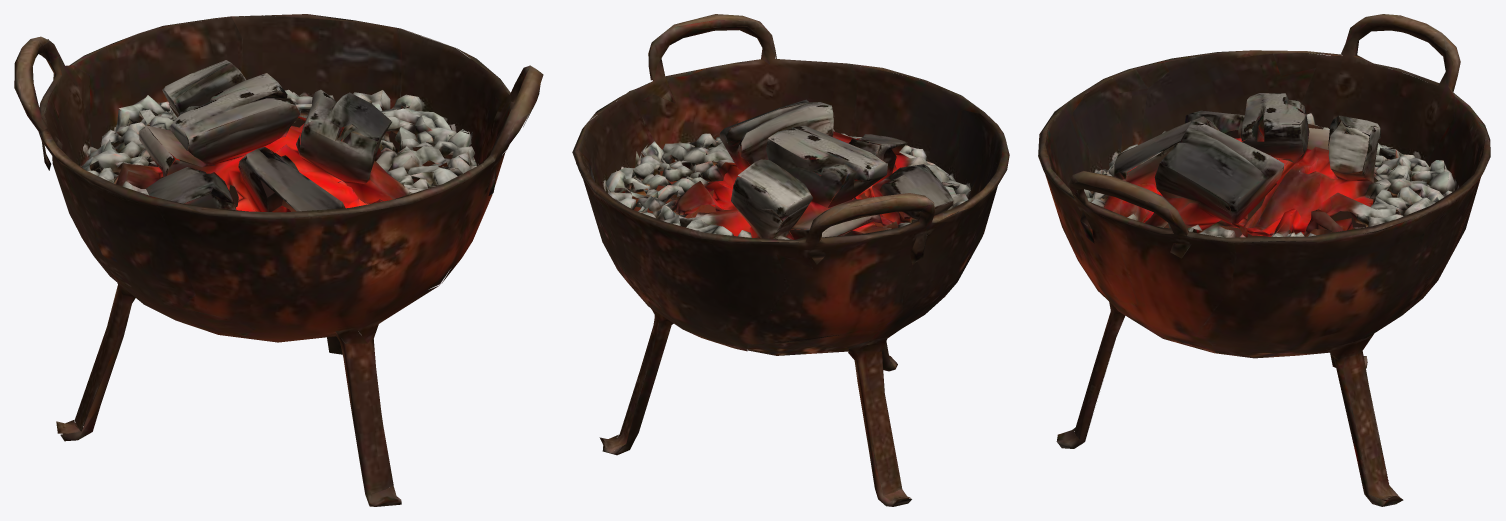
File: brasero.glb
3 views of the same model, side by side, from view 1: azimuth 30°, elevation 25°; view 2: azimuth 150°, elevation 25°; view 3: azimuth 270°, elevation 25° (orthographic). The views are drawn at different scales.
Parts seen in each view (by area): view 1: geometry_0; view 2: geometry_0; view 3: geometry_0.
Part boxes in pixels (box(x1,y1,x2,y2)): geometry_0: box(14, 14, 543, 506); geometry_0: box(572, 14, 1009, 506); geometry_0: box(1038, 14, 1490, 506).
Size of the model in its own units: 0.5004 by 0.4194 by 0.5013.
1 material, 1 textured.
